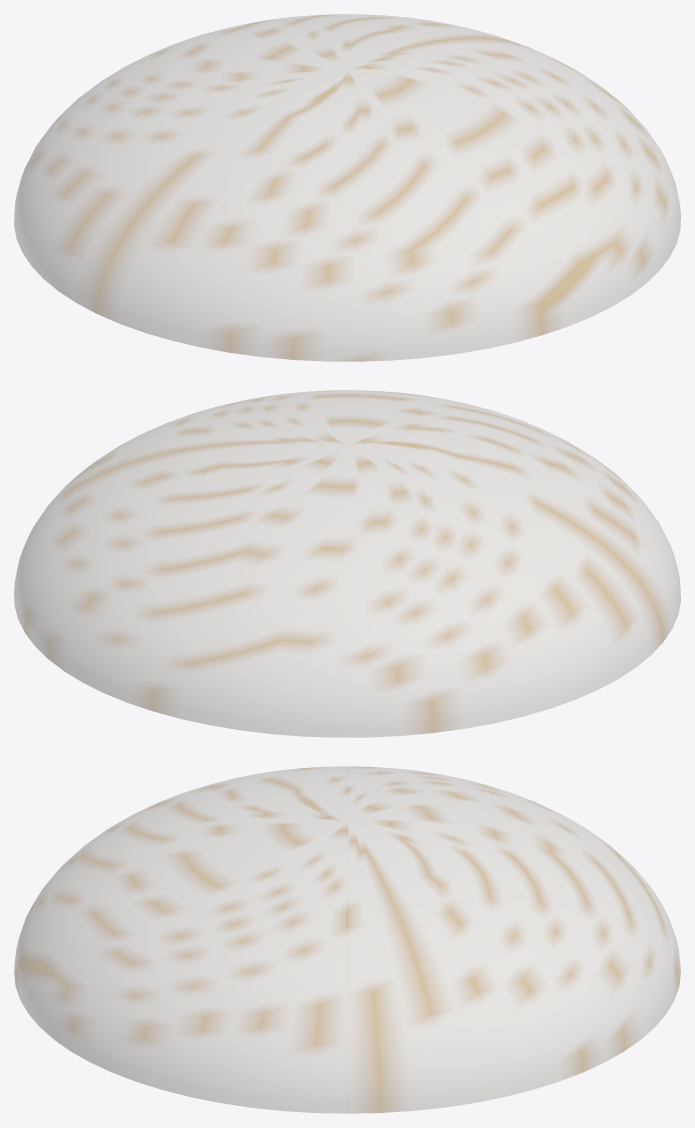
File: rutilatedquartz.glb
3 renders of one model, top to bottom at view 1: azimuth 30°, elevation 25°; view 2: azimuth 150°, elevation 25°; view 3: azimuth 270°, elevation 25°, orthographic.
Visible parts, largest first — view 1: rutilatedquartz; view 2: rutilatedquartz; view 3: rutilatedquartz.
Boxes of the visible parts, left/top/right/bottom form: rutilatedquartz: left=14, top=14, right=680, bottom=361; rutilatedquartz: left=14, top=390, right=680, bottom=737; rutilatedquartz: left=14, top=766, right=680, bottom=1113.
Size of the model in its own units: 0.25 by 0.0625 by 0.25.
